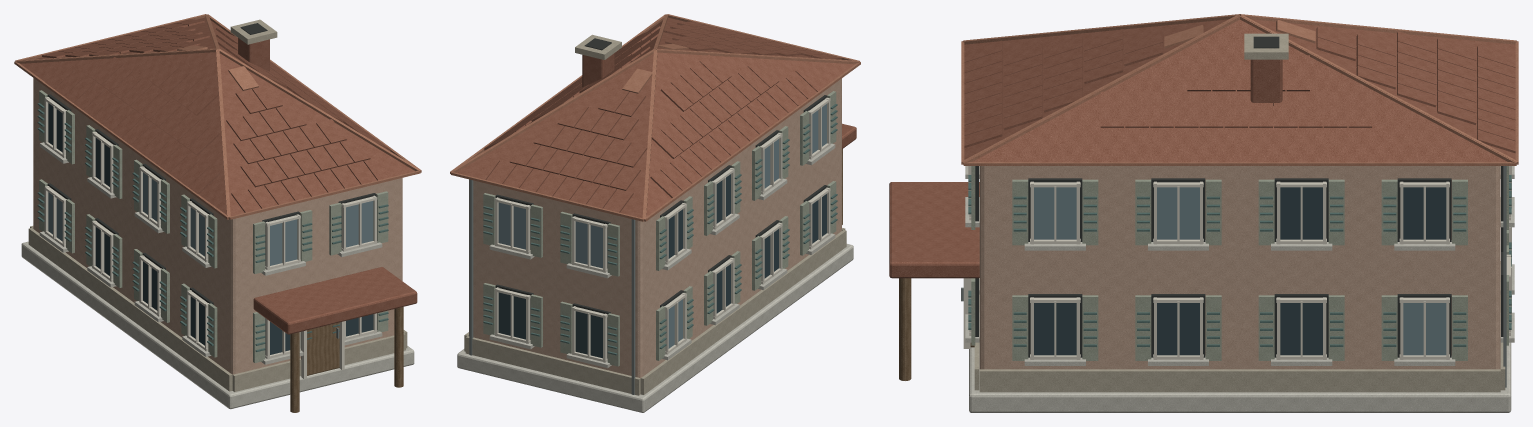
Rendered from RES_LOW_1x2_009.glb.
3 renders of one model, left to right at view 1: azimuth 30°, elevation 25°; view 2: azimuth 150°, elevation 25°; view 3: azimuth 270°, elevation 25°, orthographic. The views are drawn at different scales.
Visible parts, largest first — view 1: RES_LOW_1x2_009_Visual; view 2: RES_LOW_1x2_009_Visual; view 3: RES_LOW_1x2_009_Visual.
Part boxes in pixels (x1,y1,x2,y2): RES_LOW_1x2_009_Visual: [14, 14, 421, 412]; RES_LOW_1x2_009_Visual: [450, 14, 860, 412]; RES_LOW_1x2_009_Visual: [889, 14, 1518, 412].
Size of what is drawn, in the model's own units: 1.64 by 2.13 by 3.55.
Materials: 14 (8 with a texture image).
